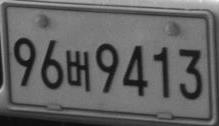1: (150, 46, 175, 98)
3: (178, 47, 202, 100)
4: (122, 44, 148, 97)
6: (40, 39, 64, 89)
9: (94, 42, 119, 94), (12, 36, 36, 86)
버: (65, 49, 90, 91)
